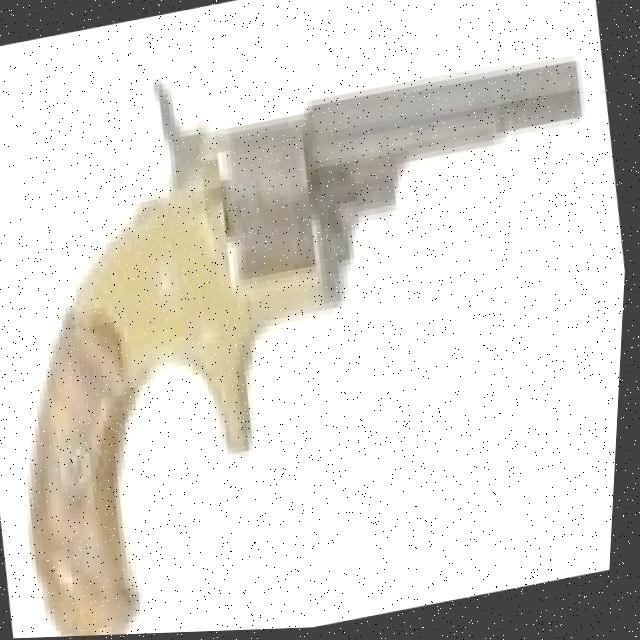pistol: (0, 6, 639, 640)
